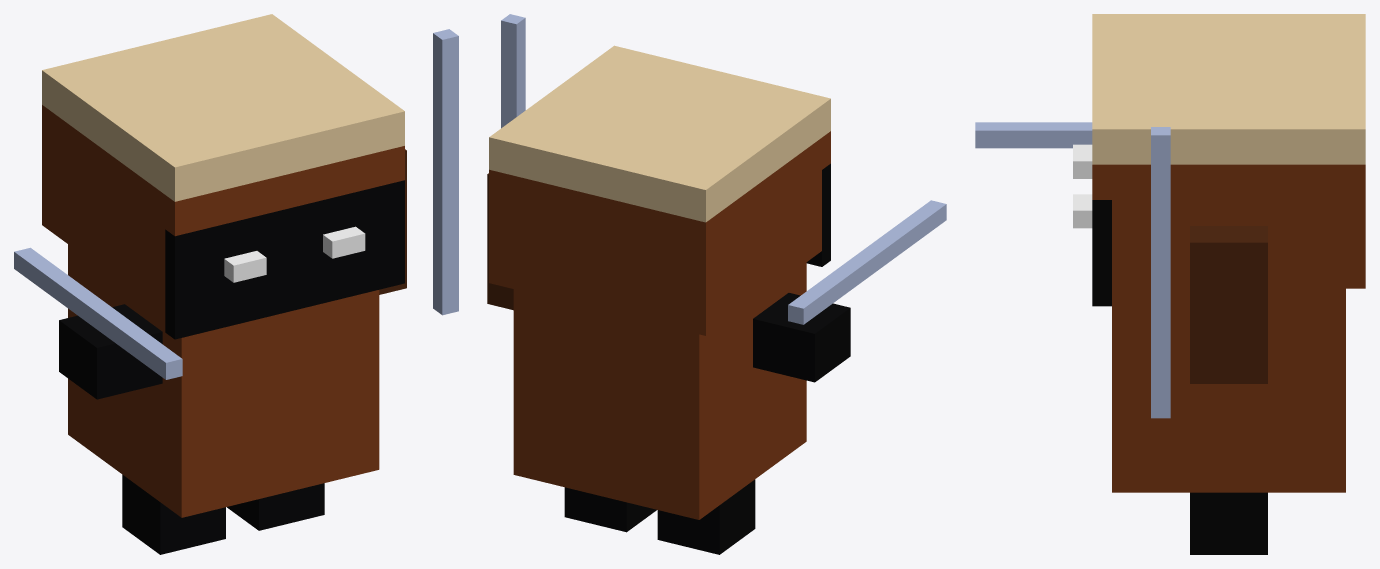
Rendered from cappuccino_assassino.glb.
3 views of the same model, side by side, from view 1: azimuth 30°, elevation 25°; view 2: azimuth 150°, elevation 25°; view 3: azimuth 270°, elevation 25° (orthographic). The views are drawn at different scales.
Visible parts, largest first — view 1: brainrot; view 2: brainrot; view 3: brainrot.
Boxes of the visible parts, x1=… form: brainrot: x1=14, y1=14, x2=458, y2=554; brainrot: x1=487, y1=14, x2=946, y2=554; brainrot: x1=975, y1=14, x2=1365, y2=554.
Bounding box in the file's own units: 4.26 × 5 × 3.7.
Materials: 1 (1 with a texture image).
